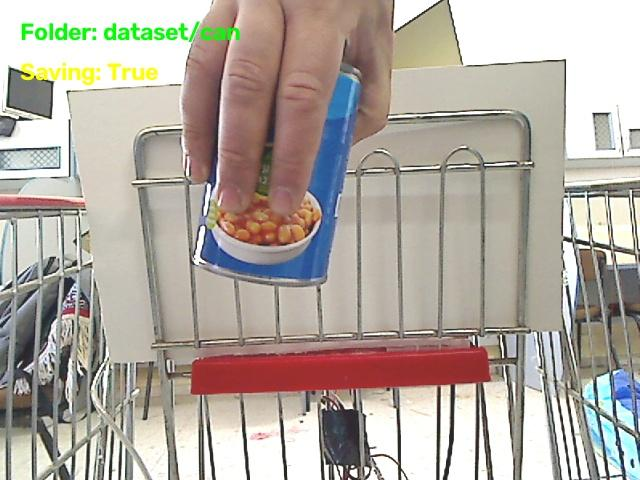can: (194, 64, 359, 285)
